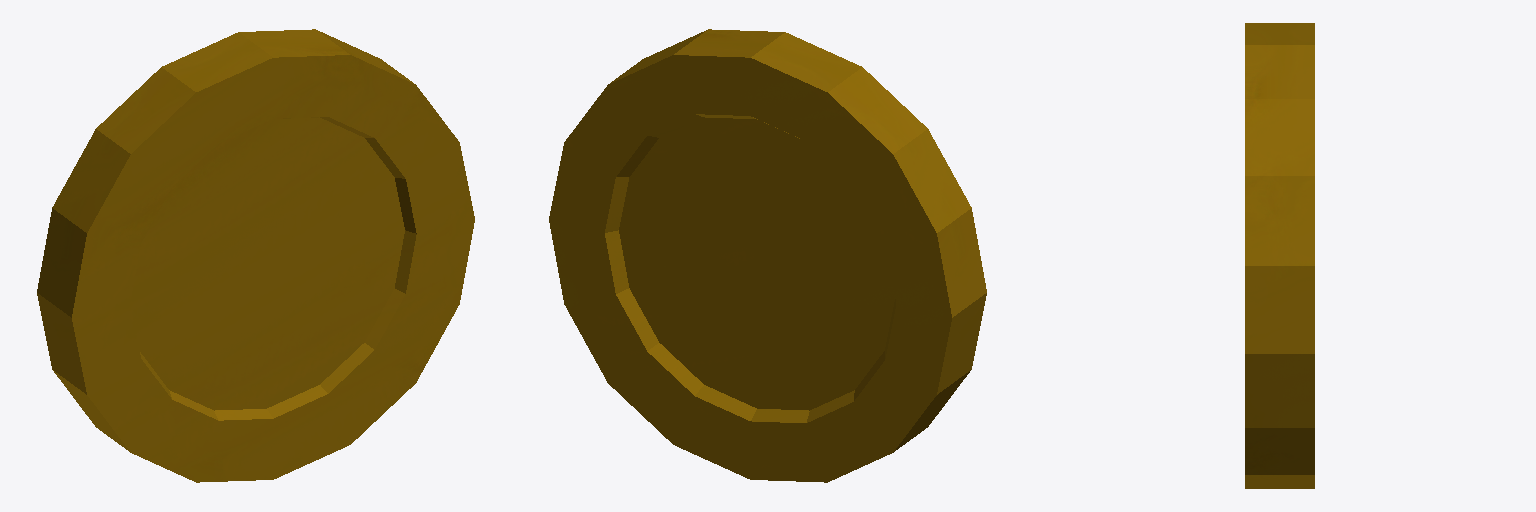
3 renders of one model, left to right at view 1: azimuth 30°, elevation 25°; view 2: azimuth 150°, elevation 25°; view 3: azimuth 270°, elevation 25°, orthographic.
Visible parts, largest first — view 1: moneda:pCylinder1; view 2: moneda:pCylinder1; view 3: moneda:pCylinder1.
Boxes of the visible parts, x1=… form: moneda:pCylinder1: x1=37, y1=29, x2=474, y2=482; moneda:pCylinder1: x1=549, y1=29, x2=986, y2=482; moneda:pCylinder1: x1=1245, y1=23, x2=1314, y2=488.
Bounding box in the file's own units: 0.5807 × 0.5807 × 0.0871.
Materials: 1 (1 with a texture image).